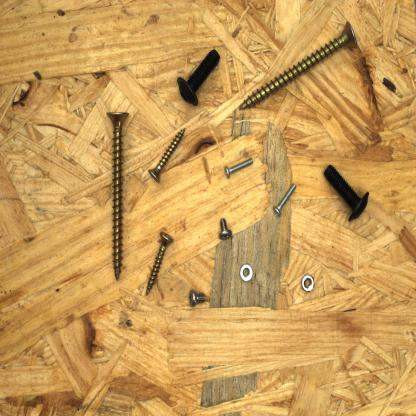screw: (236, 15, 364, 113), (104, 107, 133, 284), (318, 159, 374, 227), (175, 44, 222, 112), (146, 124, 189, 187), (142, 224, 176, 299), (270, 178, 300, 224), (222, 155, 257, 180), (186, 286, 209, 310), (216, 215, 235, 243)
